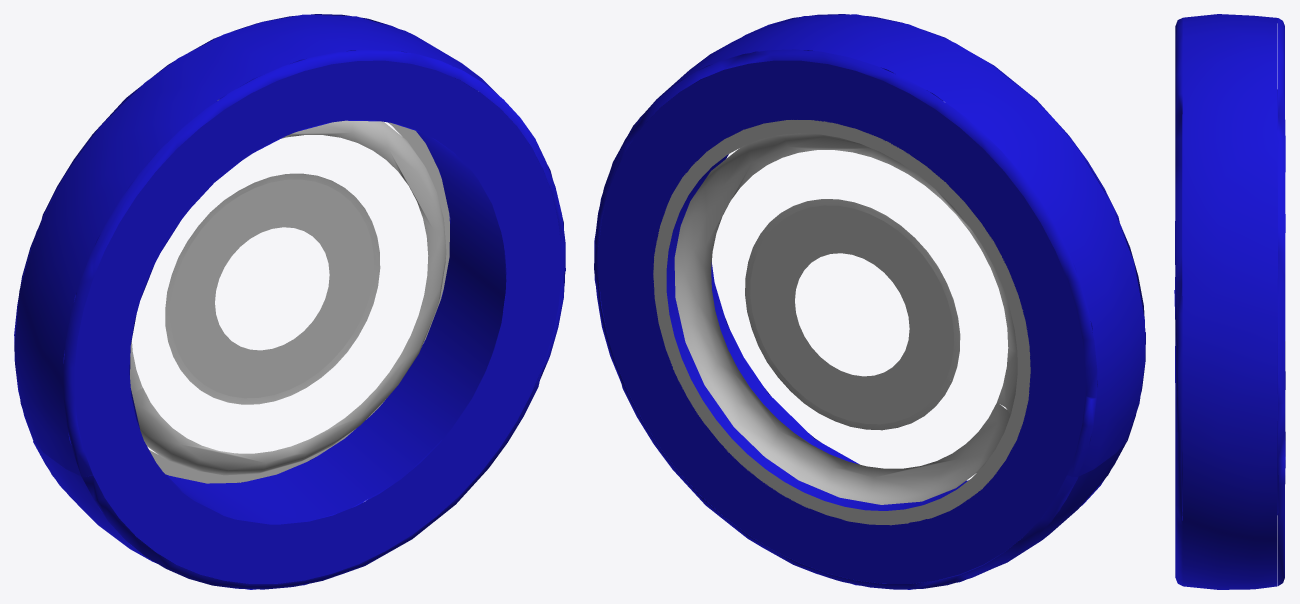
The model's file is mir250-wheel-right.dae.
3 renders of one model, left to right at view 1: azimuth 30°, elevation 25°; view 2: azimuth 150°, elevation 25°; view 3: azimuth 270°, elevation 25°, orthographic. The views are drawn at different scales.
Parts seen in each view (by area): view 1: diff-drive-left; view 2: diff-drive-left; view 3: diff-drive-left.
Part boxes in pixels (bbox=[...]): diff-drive-left: bbox=[14, 14, 565, 589]; diff-drive-left: bbox=[594, 14, 1145, 589]; diff-drive-left: bbox=[1174, 14, 1285, 589].
Bounding box in the file's own units: 0.2 × 0.0386 × 0.1998.
